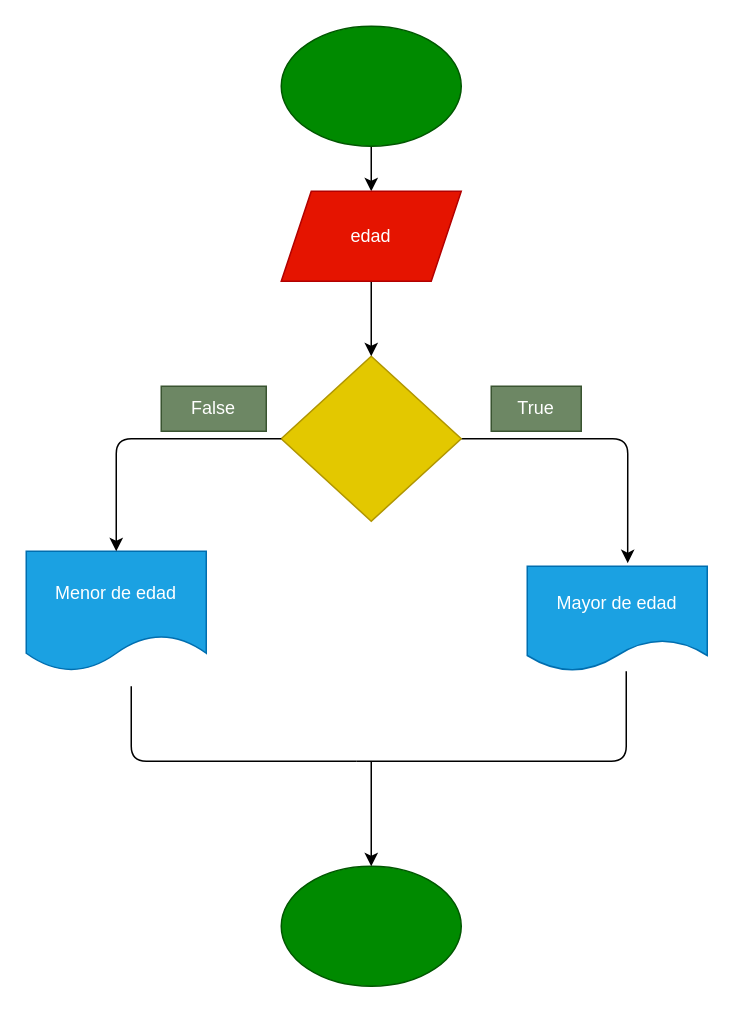
Some shapes in this 734 by 1013 pixel diagram are drawn without their labels. The box of each missing label's shape, as (x1, y1, x2, y2) in pixels:
edad>=18: (280, 355, 461, 521)
Fin: (280, 865, 461, 986)
Inicio: (280, 25, 461, 146)
